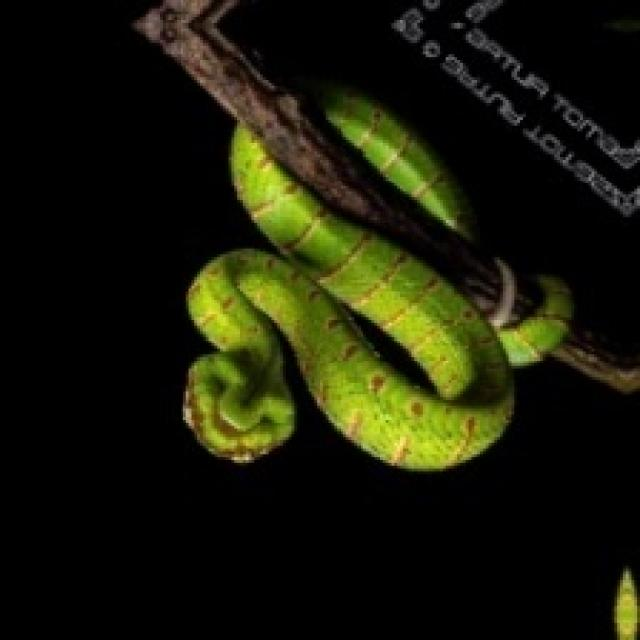north ph temple pitviper: (186, 126, 571, 469), (314, 86, 474, 246)
